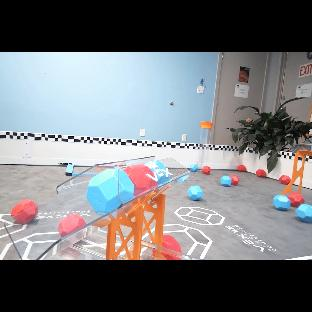V5_BLUE: (220, 174, 240, 187), (187, 185, 203, 201), (203, 166, 211, 174), (190, 164, 199, 171)
V5_RED: (60, 214, 86, 234), (162, 234, 181, 253), (162, 251, 181, 260), (229, 174, 240, 185), (202, 166, 211, 175), (238, 165, 246, 172)
blueingoal: (86, 169, 135, 215), (144, 161, 173, 185)
redingoal: (124, 165, 158, 196)
